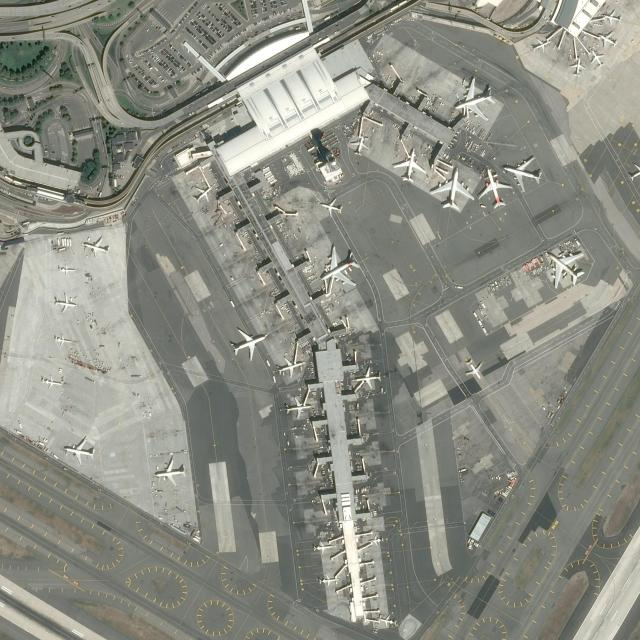1: (628, 162, 640, 180)
aircraft: (428, 167, 474, 211), (453, 75, 495, 122), (316, 245, 360, 288), (502, 152, 544, 192), (546, 249, 585, 288), (478, 167, 512, 210), (393, 146, 427, 184), (228, 327, 266, 361), (63, 436, 96, 466), (154, 457, 187, 486), (284, 394, 312, 420), (352, 366, 382, 390), (276, 356, 304, 378), (82, 236, 108, 257), (318, 197, 344, 217), (52, 293, 76, 312), (597, 29, 619, 49), (464, 357, 484, 379), (349, 136, 369, 156), (601, 8, 623, 26), (531, 35, 553, 53), (588, 48, 606, 68), (568, 56, 586, 76), (192, 186, 212, 203), (40, 374, 62, 388), (314, 540, 332, 556), (52, 332, 72, 346), (319, 574, 339, 586), (376, 614, 395, 626), (368, 534, 384, 546), (56, 264, 75, 274)
